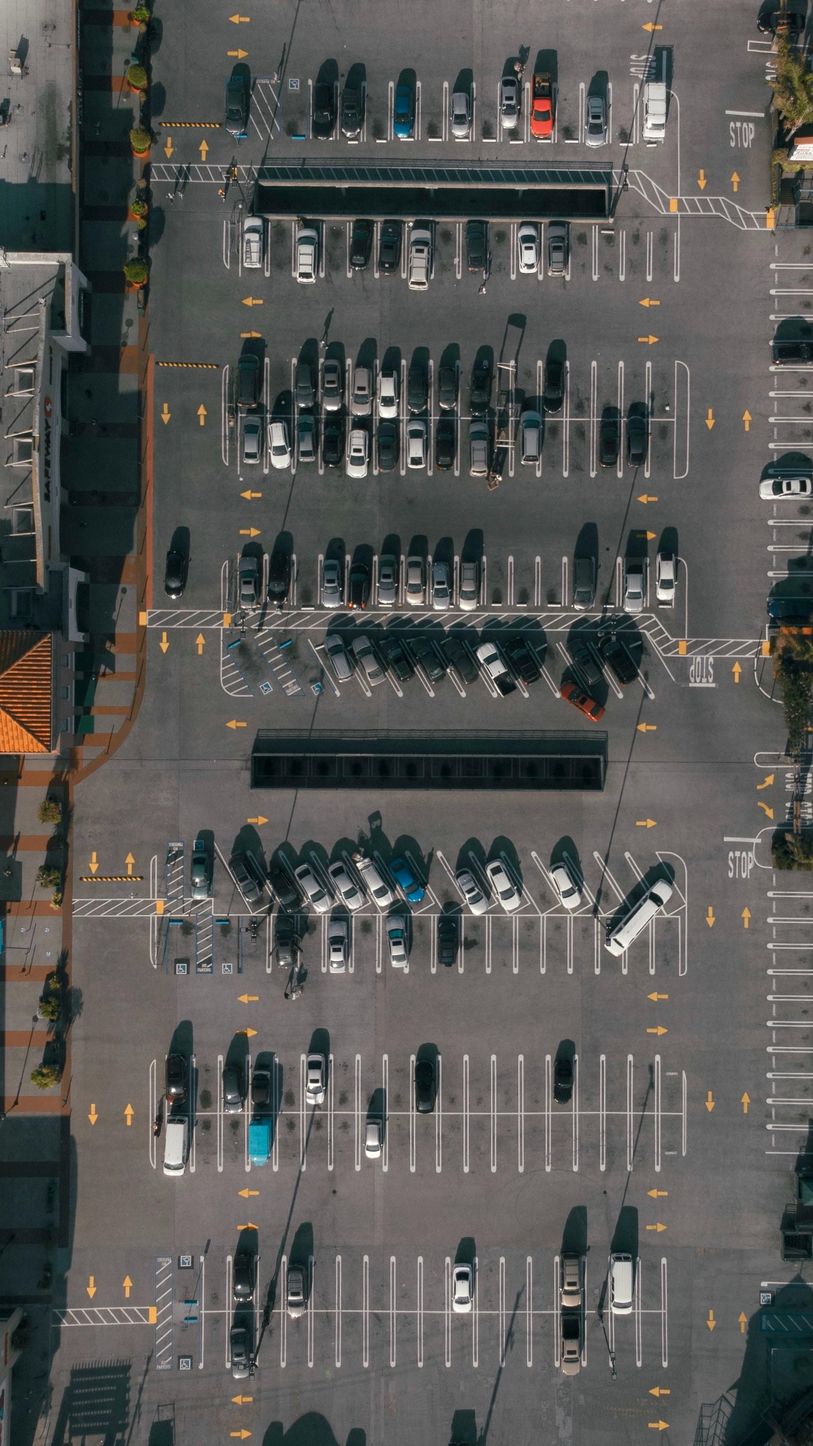car: (402, 629, 459, 697), (471, 636, 524, 702), (600, 634, 653, 699), (456, 359, 511, 421), (373, 633, 426, 697), (503, 633, 552, 700), (612, 413, 656, 485), (455, 413, 500, 483), (291, 852, 341, 914), (347, 632, 396, 695), (441, 633, 488, 698), (320, 854, 370, 915), (304, 69, 343, 147), (365, 355, 408, 425), (354, 851, 403, 911), (158, 1110, 200, 1180), (565, 635, 613, 696), (388, 853, 435, 914), (159, 1047, 199, 1118), (286, 354, 329, 420), (312, 632, 357, 695), (633, 81, 675, 148), (451, 853, 497, 914), (534, 220, 577, 285), (227, 850, 272, 912), (645, 547, 683, 620), (260, 412, 301, 479), (425, 355, 466, 422), (375, 909, 414, 978), (262, 855, 308, 913), (483, 850, 526, 912), (369, 547, 408, 615), (311, 356, 352, 420), (551, 1307, 589, 1376), (288, 412, 327, 479), (427, 910, 467, 975), (218, 68, 254, 140), (225, 354, 268, 414), (236, 214, 275, 280), (508, 412, 543, 485), (496, 75, 531, 148), (183, 844, 220, 913), (451, 548, 490, 613), (234, 412, 273, 477), (546, 855, 591, 911), (242, 1109, 282, 1172), (341, 357, 381, 420), (536, 353, 572, 423), (527, 69, 560, 145), (404, 1053, 445, 1114), (578, 81, 615, 148), (618, 549, 655, 616), (608, 1246, 643, 1316), (401, 358, 438, 424), (509, 221, 549, 282), (227, 1309, 262, 1378), (386, 79, 421, 148), (267, 911, 303, 978), (230, 550, 269, 611), (318, 412, 351, 484), (402, 217, 439, 281), (335, 74, 369, 143), (345, 216, 381, 281), (553, 1249, 588, 1315), (292, 216, 327, 282), (458, 216, 493, 282), (261, 550, 297, 614), (590, 414, 624, 481), (216, 1050, 251, 1115), (426, 550, 461, 615), (445, 81, 480, 146), (375, 214, 409, 280), (321, 913, 356, 977), (543, 1054, 583, 1110), (354, 1110, 390, 1172), (316, 552, 352, 614), (371, 417, 407, 479), (299, 1051, 336, 1111), (346, 415, 380, 480), (399, 418, 433, 480), (281, 1255, 316, 1315), (400, 550, 433, 613), (428, 414, 461, 477), (225, 1251, 260, 1310), (444, 1255, 478, 1315), (245, 1054, 280, 1111), (345, 555, 379, 610), (760, 339, 813, 371), (761, 592, 813, 621), (758, 476, 812, 501), (572, 556, 595, 612), (472, 141, 472, 144)
